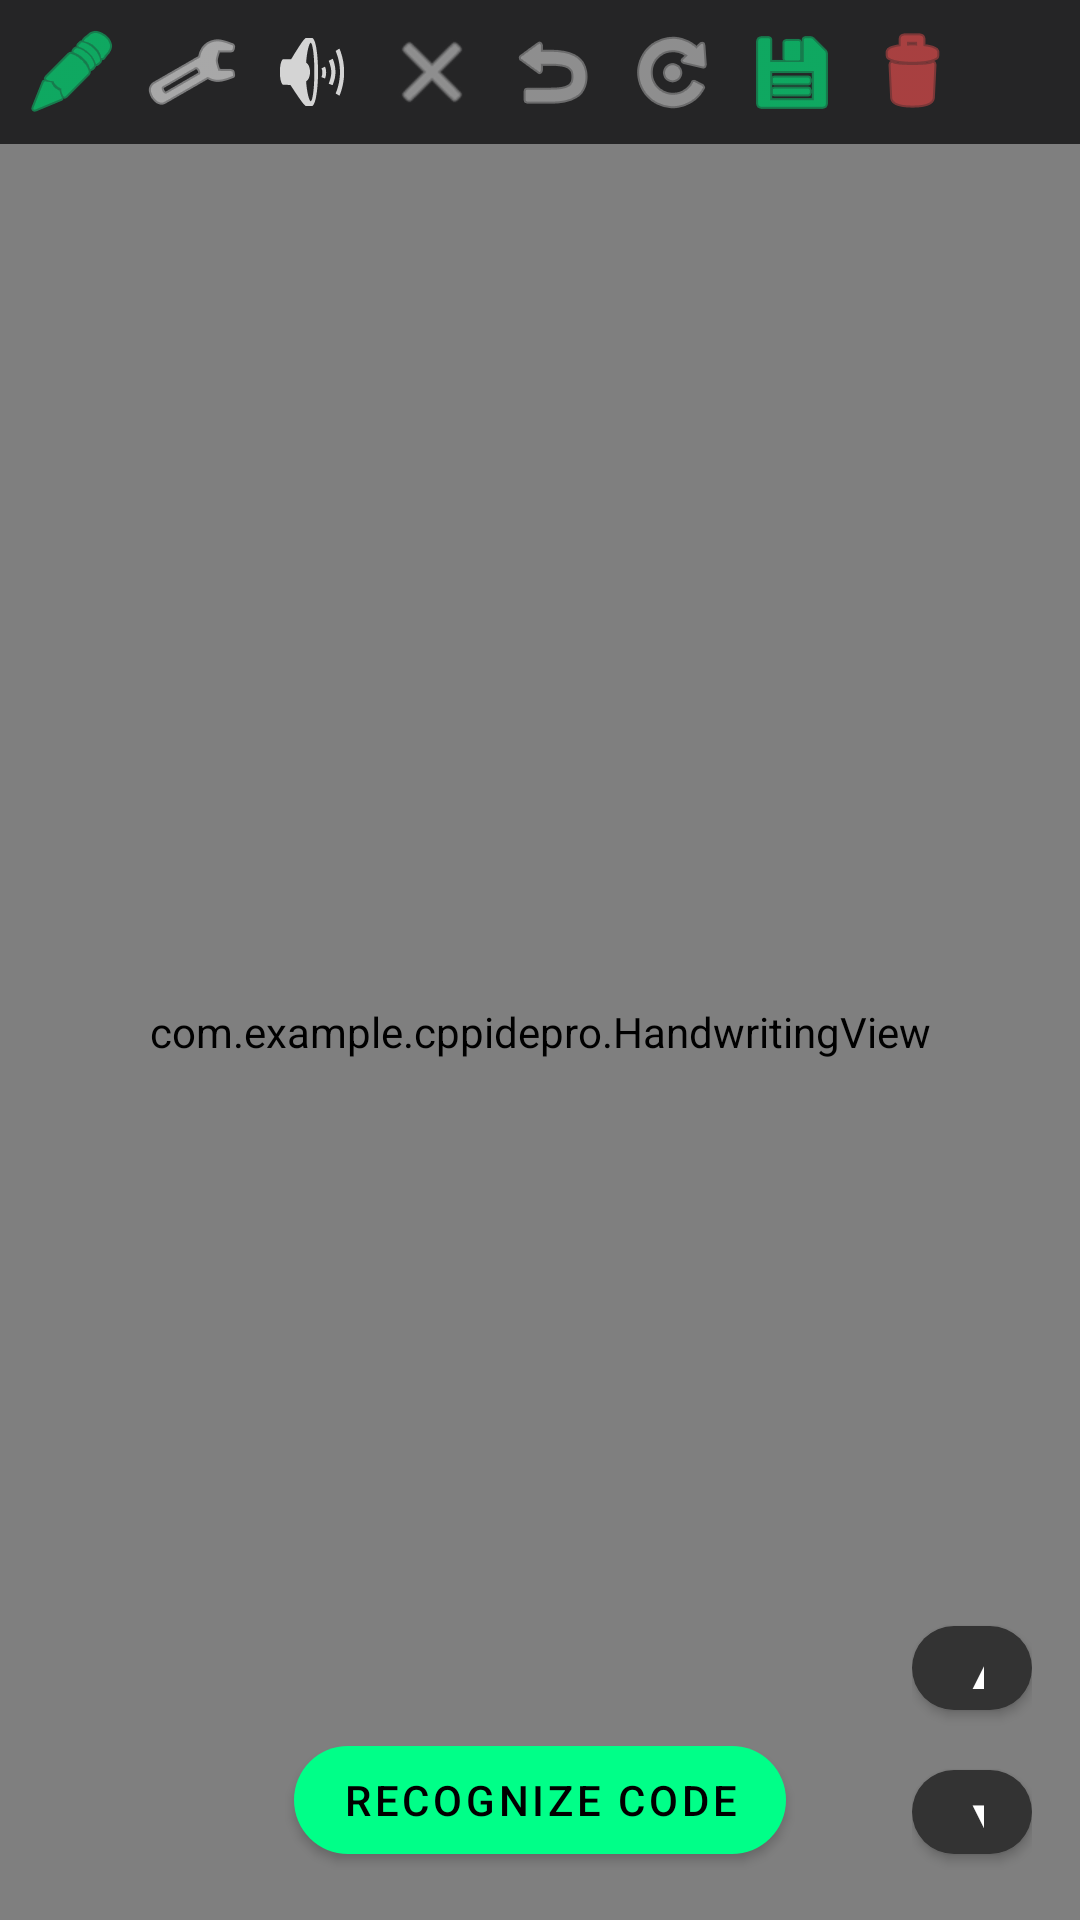

Screen size 1080w x 1920h. Icon name, then its center in pixels as point (x, y):
close clear cancel: point (432, 72)
delete: point (912, 70)
edit: point (71, 71)
lock silent mode off: point (312, 72)
preferences: point (192, 72)
revert: point (553, 72)
rotate: point (672, 72)
save: point (792, 72)
